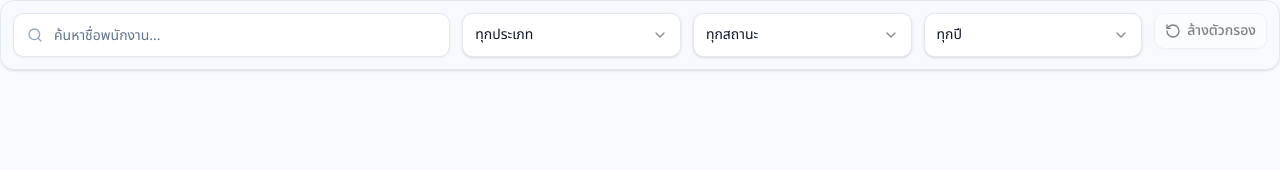
LeaveHistoryFilters › renders only the years supplied by the authorized history metadata
Click the dropdown named "ปีที่ลา" at (1033, 35), box [924,13,1142,57]
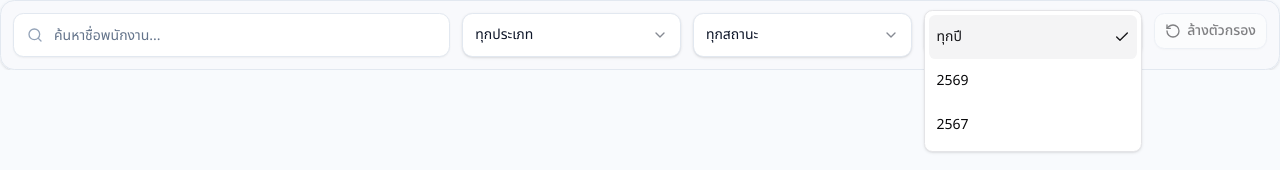
expect the option "2569" is shown: met, box [937,70,969,91]
expect the option "2567" is shown: met, box [937,114,969,135]
